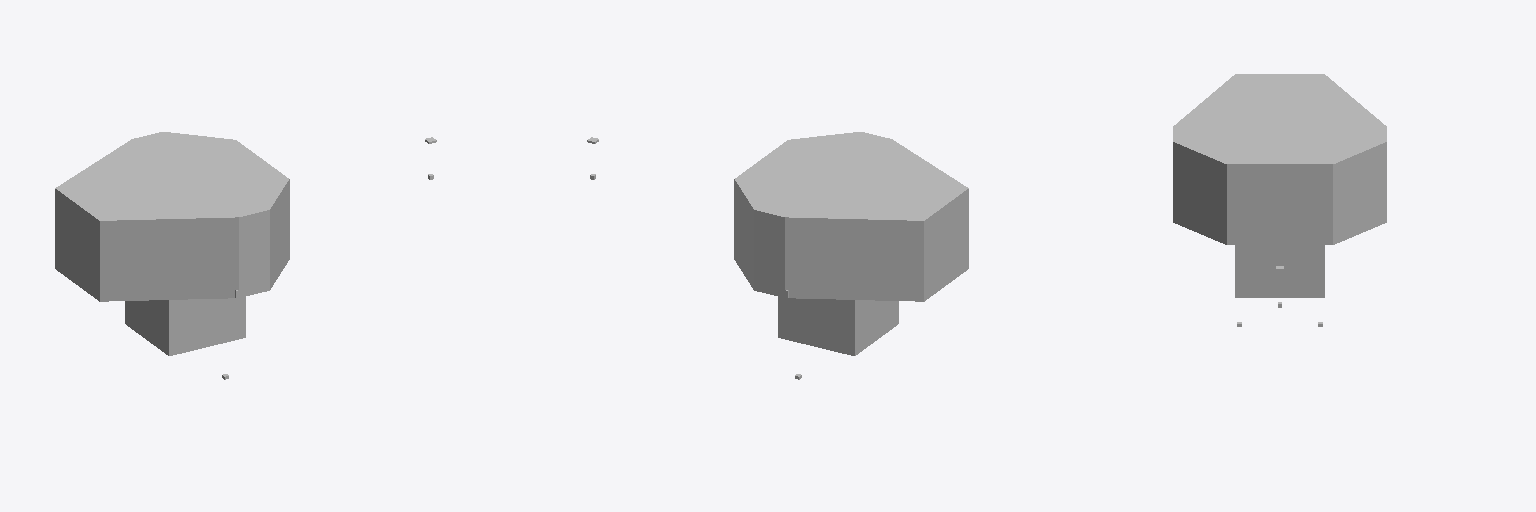
Rendered from 13yard-bonus.obj.
The picture shows the model from 3 angles: view 1: azimuth 30°, elevation 25°; view 2: azimuth 150°, elevation 25°; view 3: azimuth 270°, elevation 25°; orthographic projection.
Parts seen in each view (by area): view 1: entity0_brush1245, entity0_brush761, entity0_brush813, entity0_brush760, entity0_brush1246, entity0_brush1414, entity0_brush762, entity0_brush804; view 2: entity0_brush1245, entity0_brush763, entity0_brush813, entity0_brush764, entity0_brush1246, entity0_brush1414, entity0_brush762, entity0_brush803; view 3: entity0_brush1245, entity0_brush813, entity0_brush803, entity0_brush804, entity0_brush886, entity0_brush764, entity0_brush760.
Part boxes in pixels (x1,y1,x2,y2): entity0_brush1245: (55, 132, 289, 236); entity0_brush761: (91, 231, 218, 293); entity0_brush813: (125, 297, 245, 353); entity0_brush760: (219, 211, 279, 290); entity0_brush1246: (64, 211, 90, 281); entity0_brush1414: (55, 257, 227, 301); entity0_brush762: (55, 262, 234, 301); entity0_brush804: (280, 195, 289, 265); entity0_brush1245: (734, 132, 968, 236); entity0_brush763: (805, 231, 932, 293); entity0_brush813: (778, 297, 898, 353); entity0_brush764: (744, 211, 804, 290); entity0_brush1246: (933, 211, 959, 284); entity0_brush1414: (796, 257, 968, 301); entity0_brush762: (789, 263, 968, 301); entity0_brush803: (734, 195, 743, 265); entity0_brush1245: (1173, 74, 1386, 180); entity0_brush813: (1235, 245, 1324, 295); entity0_brush803: (1280, 170, 1359, 236); entity0_brush804: (1200, 170, 1279, 236); entity0_brush886: (1173, 215, 1386, 244); entity0_brush764: (1360, 158, 1386, 225); entity0_brush760: (1173, 158, 1199, 225).
Bounding box in the file's own units: 11840 × 6016 × 6144.